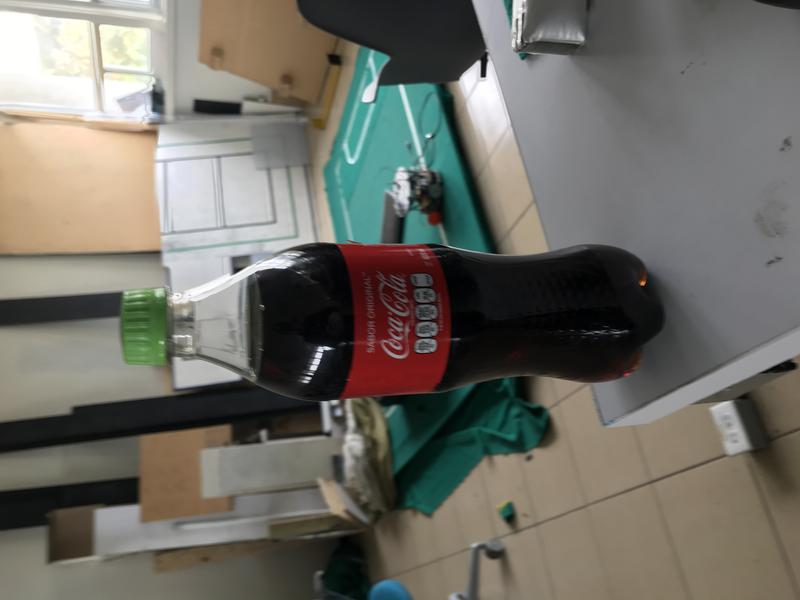coca_cola: (119, 243, 669, 403)
